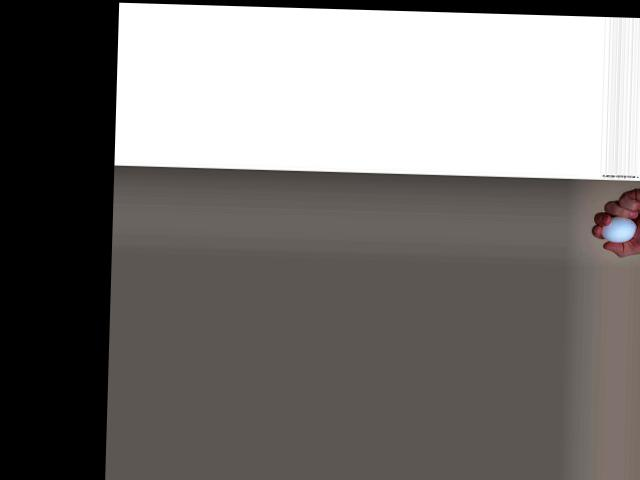egg: (602, 216, 638, 243)
